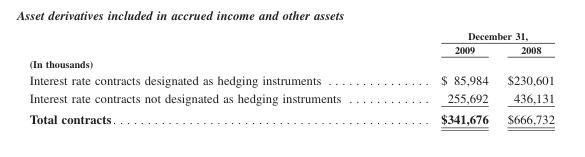table: (28, 29, 554, 126)
table column: (28, 29, 390, 126), (390, 29, 497, 126), (497, 29, 554, 126)
table column header: (28, 29, 554, 56)
table projected row header: (28, 56, 554, 70)
table row: (28, 88, 554, 108), (28, 70, 554, 88), (28, 108, 554, 126), (28, 42, 554, 56), (28, 56, 554, 70), (28, 29, 554, 42)
table spanning cell: (390, 29, 554, 42)
